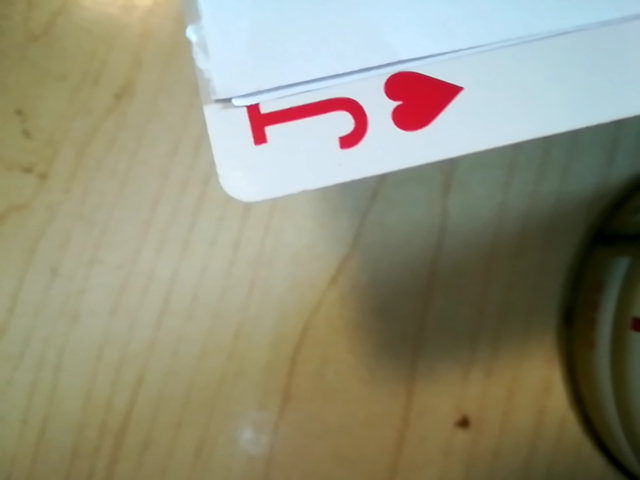hx j: (216, 67, 477, 166)
